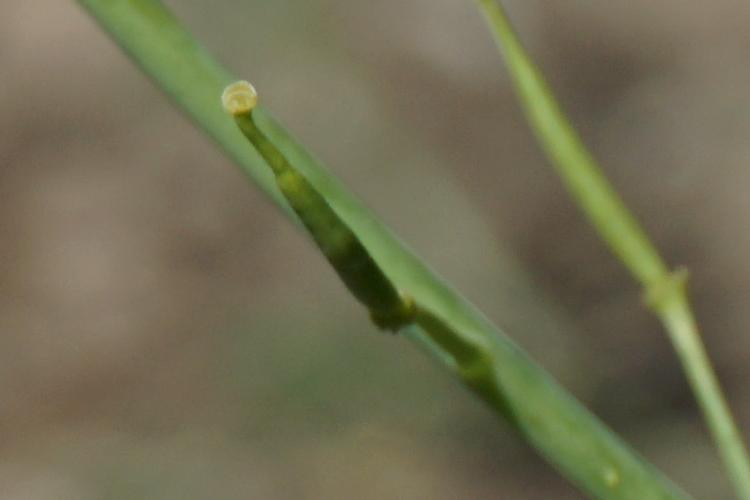pod: (183, 86, 441, 377)
